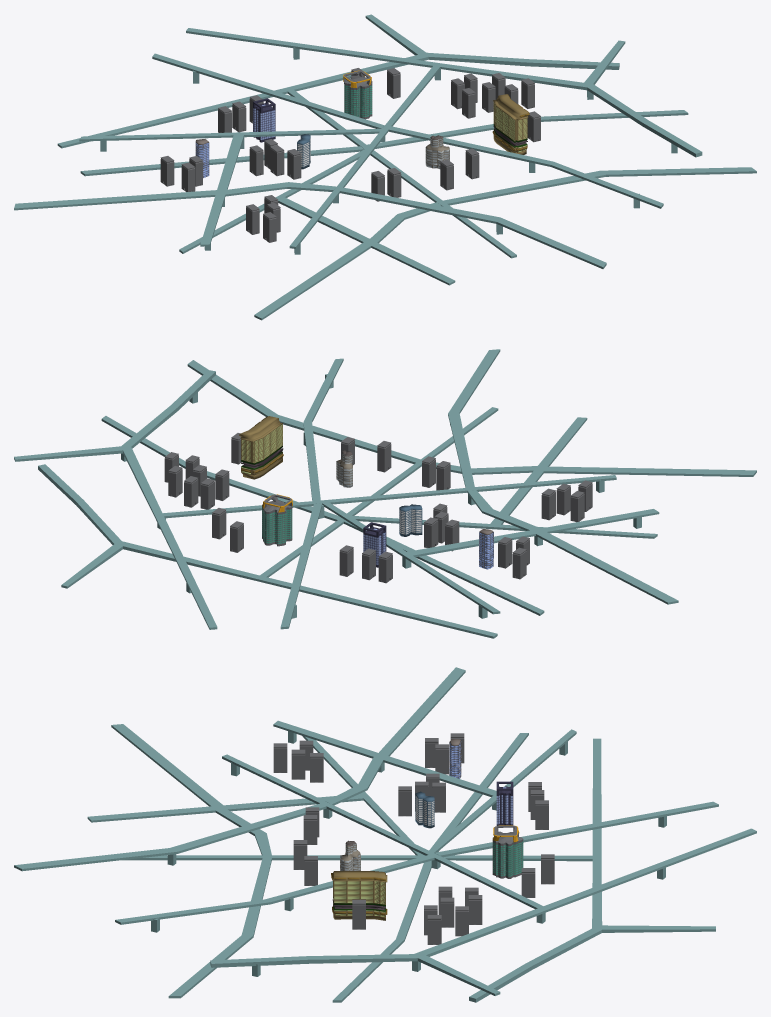
The model's file is CitySystem.fbx.
The picture shows the model from 3 angles, top to bottom: view 1: azimuth 30°, elevation 25°; view 2: azimuth 150°, elevation 25°; view 3: azimuth 270°, elevation 25°; orthographic projection. The views are drawn at different scales.
Visible parts, largest first — view 1: building2, carRoad_air.005, carRoad_air.006, carRoad_air.008, carRoad_air.001, carRoad_ground.004, carRoad_ground, carRoad_ground.002, carRoad_ground.009, carRoad_air.003, carRoad_air.009, carRoad_air.015 (+18 smaller); view 2: building2, carRoad_air.003, carRoad_ground.002, carRoad_ground.009, carRoad_air.009, carRoad_air.001, carRoad_ground.004, carRoad_air.005, optimizeBuilding4, carRoad_ground.010, carRoad_ground.006, carRoad_air.006 (+22 smaller); view 3: building2, carRoad_air.003, carRoad_ground.004, carRoad_air.015, carRoad_air.006, carRoad_air.009, carRoad_air.008, carRoad_ground.002, carRoad_ground.010, carRoad_ground, carRoad_air.001, optimizeBuilding4 (+20 smaller).
Part boxes in pixels (bbox=[...]): building2: bbox=[492, 94, 529, 154]; carRoad_air.005: bbox=[79, 128, 381, 141]; carRoad_air.006: bbox=[152, 53, 384, 128]; carRoad_air.008: bbox=[186, 28, 435, 67]; carRoad_air.001: bbox=[14, 190, 216, 210]; carRoad_ground.004: bbox=[278, 197, 455, 285]; carRoad_ground: bbox=[427, 52, 619, 69]; carRoad_ground.002: bbox=[254, 242, 371, 320]; carRoad_ground.009: bbox=[57, 88, 287, 148]; carRoad_air.003: bbox=[200, 135, 243, 246]; carRoad_air.009: bbox=[334, 62, 442, 190]; carRoad_air.015: bbox=[587, 84, 702, 157]; building2: bbox=[239, 416, 283, 479]; carRoad_air.003: bbox=[407, 509, 659, 557]; carRoad_ground.002: bbox=[544, 466, 756, 476]; carRoad_ground.009: bbox=[262, 577, 497, 638]; carRoad_air.009: bbox=[154, 487, 475, 518]; carRoad_air.001: bbox=[536, 532, 678, 604]; carRoad_ground.004: bbox=[490, 417, 587, 524]; carRoad_air.005: bbox=[322, 502, 500, 614]; optimizeBuilding4: bbox=[262, 500, 292, 546]; carRoad_ground.010: bbox=[255, 459, 422, 582]; carRoad_ground.006: bbox=[351, 515, 657, 538]; carRoad_air.006: bbox=[280, 503, 322, 629]; building2: bbox=[331, 871, 387, 920]; carRoad_air.003: bbox=[273, 720, 496, 797]; carRoad_ground.004: bbox=[87, 794, 363, 822]; carRoad_air.015: bbox=[210, 954, 417, 967]; carRoad_air.006: bbox=[434, 801, 718, 857]; carRoad_air.009: bbox=[321, 801, 549, 912]; carRoad_air.008: bbox=[544, 828, 756, 910]; carRoad_ground.002: bbox=[111, 724, 222, 806]; carRoad_ground.010: bbox=[262, 855, 601, 861]; carRoad_ground: bbox=[469, 928, 601, 1002]; carRoad_air.001: bbox=[379, 667, 465, 756]; optimizeBuilding4: bbox=[492, 831, 523, 878].
Size of the model in its own units: 1076 by 69.92 by 1034.
